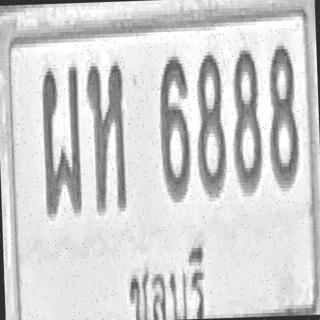A28: (41, 61, 82, 216)
A41: (85, 58, 127, 212)
N06: (158, 52, 191, 199)
N08: (193, 50, 227, 196), (266, 41, 299, 188), (231, 46, 263, 193)
P13: (121, 230, 208, 320)
